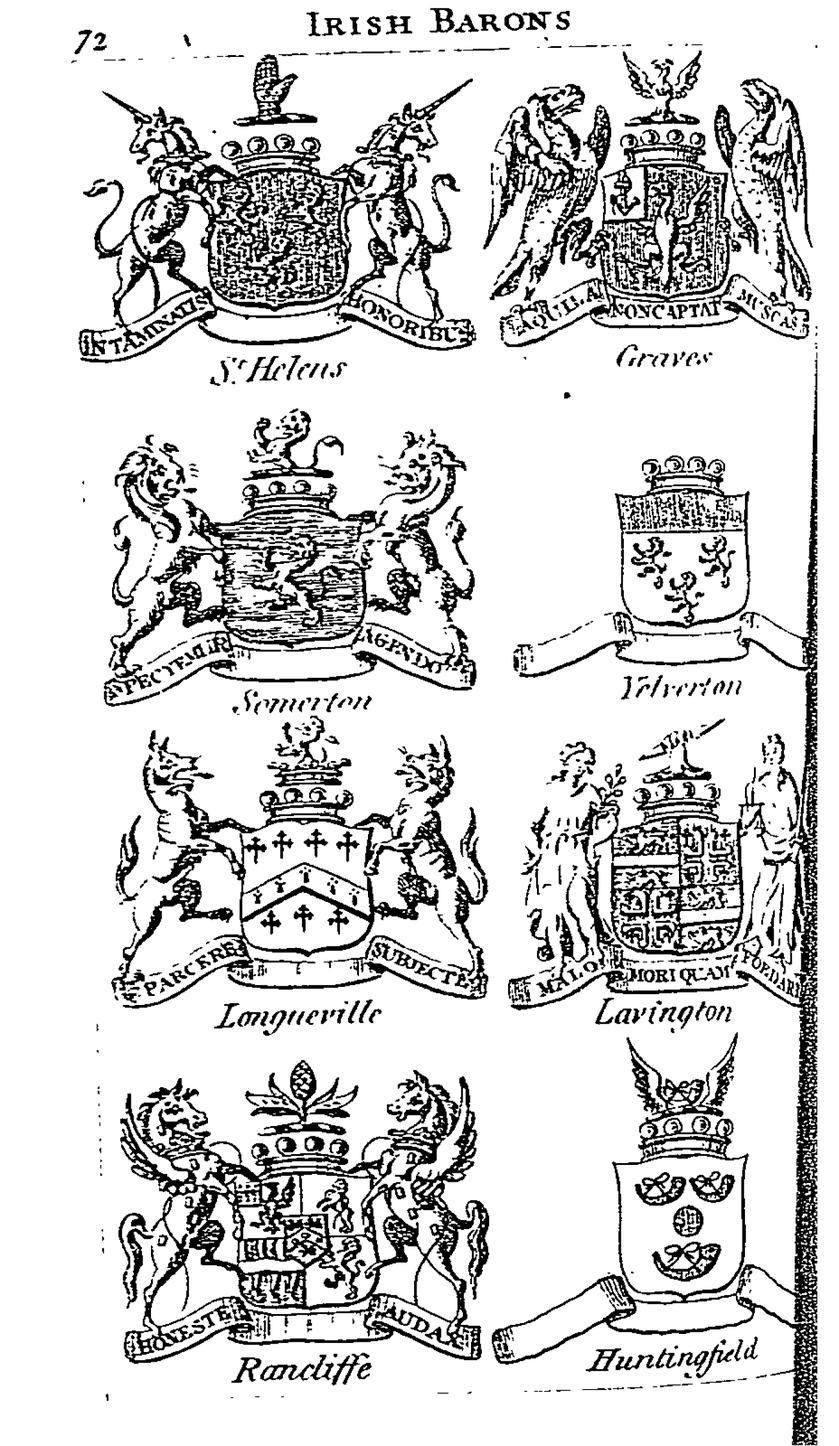coat_of_arms: (113, 1045, 491, 1386), (85, 61, 473, 387), (96, 403, 484, 722), (105, 725, 494, 1031), (488, 1029, 808, 1379), (481, 60, 819, 378), (515, 719, 804, 1026), (525, 434, 821, 712)
